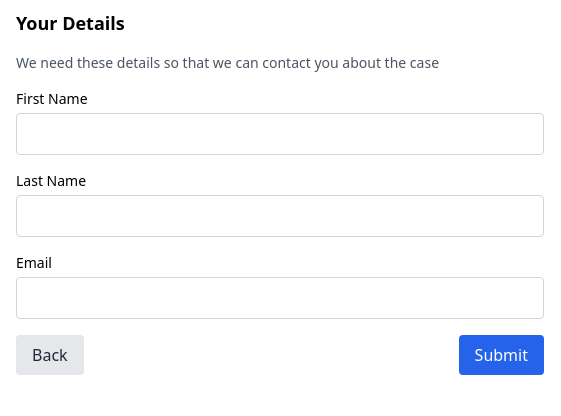
Scenario: Your details page › validation › rejects an invalid email address
The width and height of the screenshot is (561, 416).
Type "Jane" into the field with test id "firstName" at (280, 134), box [16,113,544,155]
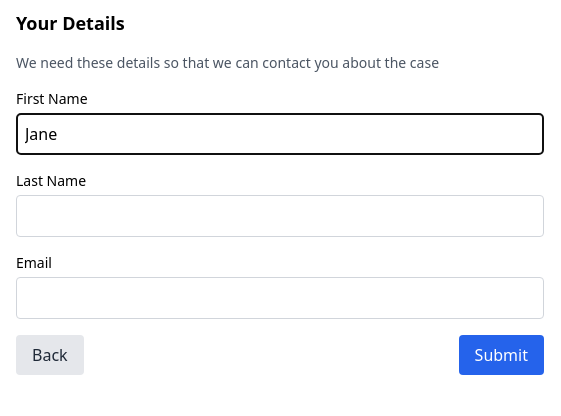
Type "Doe" into the field with test id "lastName" at (280, 216), box [16,195,544,237]
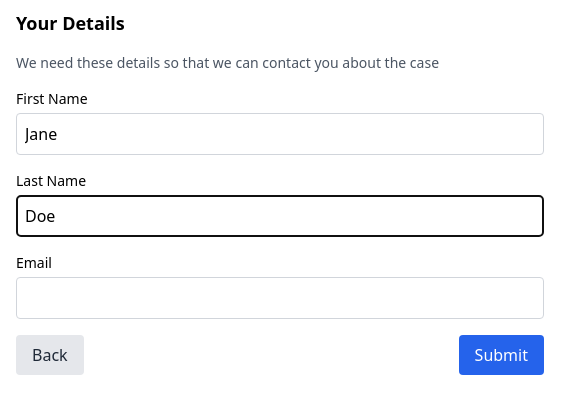
Type "not-an-email" into the field with test id "email" at (280, 298), box [16,277,544,319]
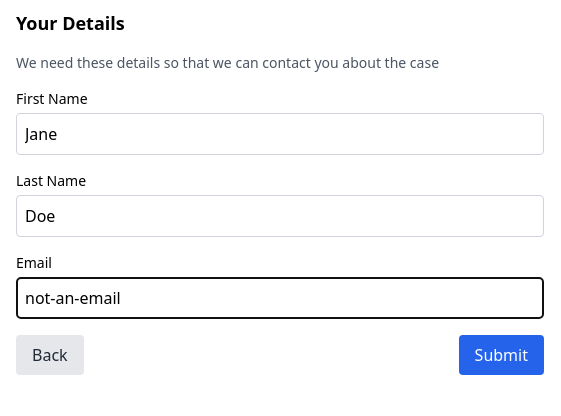
Click the button "Submit" at (502, 355), box [459,335,544,375]
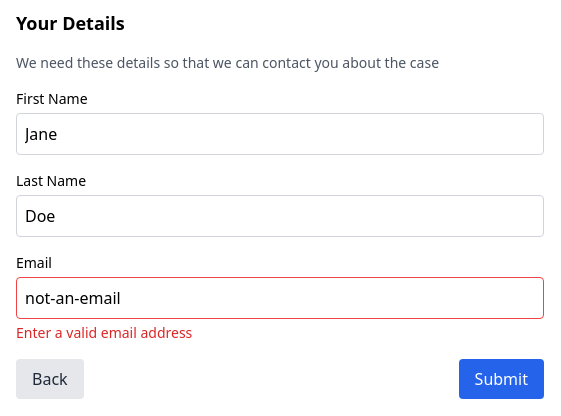
Expected: the text with test id "email-error" reads "Enter a valid email address", [16,323,192,342]
